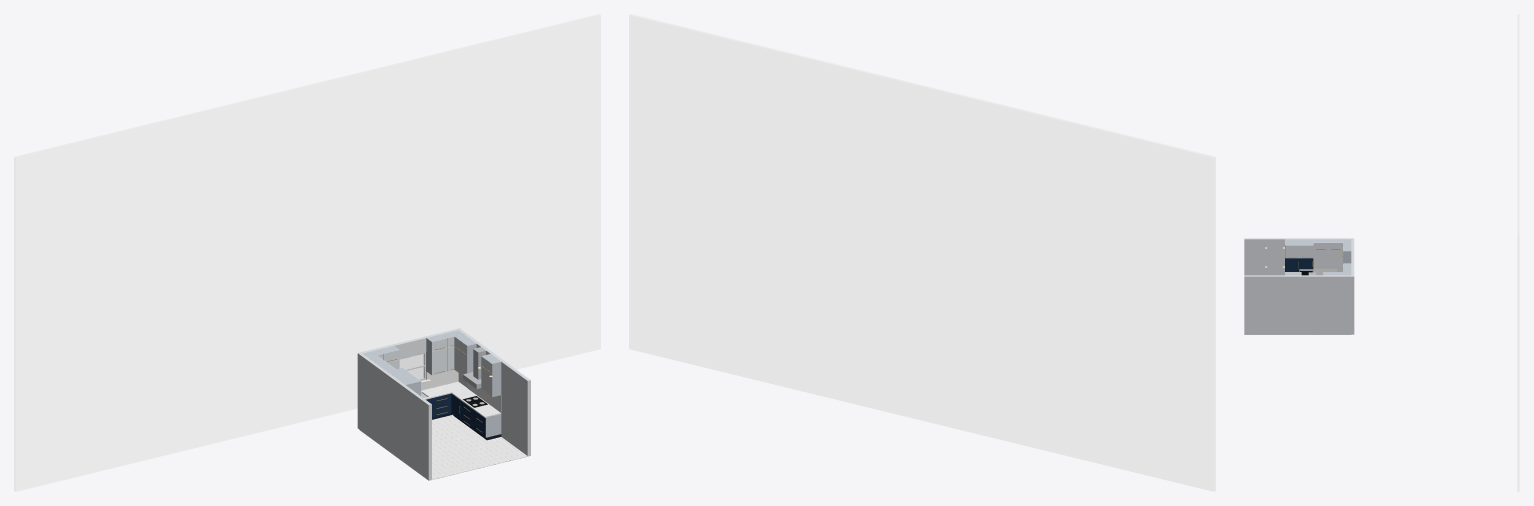
Rendered from rich-kitchen-web.glb.
3 renders of one model, left to right at view 1: azimuth 30°, elevation 25°; view 2: azimuth 150°, elevation 25°; view 3: azimuth 270°, elevation 25°, orthographic. The views are drawn at different scales.
Parts seen in each view (by area): view 1: Фон за окном, Стена левая, Стена правая; view 2: Фон за окном; view 3: Стена правая, Стена левая, Фон за окном.
Part boxes in pixels (x1,y1,x2,y2): Фон за окном: (14,14,600,491); Стена левая: (359,353,431,480); Стена правая: (458,329,530,455); Фон за окном: (629,14,1215,491); Стена правая: (1244,275,1351,334); Стена левая: (1244,238,1351,275); Фон за окном: (1517,14,1519,491).
Bounding box in the file's own units: 22 × 12 × 11.62.
